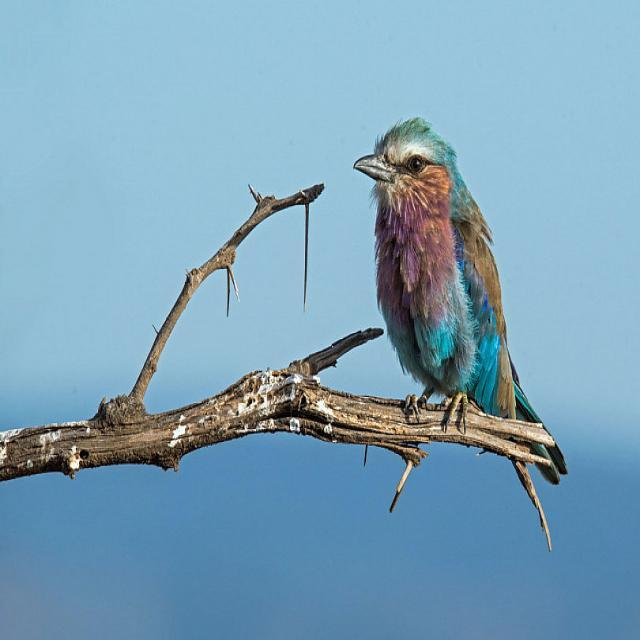bird: (298, 78, 598, 506)
